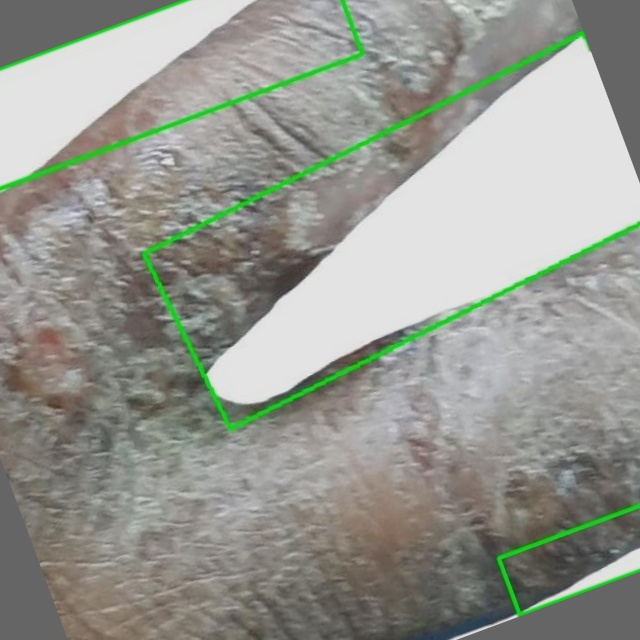Eczema: (142, 31, 639, 429), (0, 0, 361, 189)
